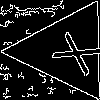X: (41, 25, 100, 77)
